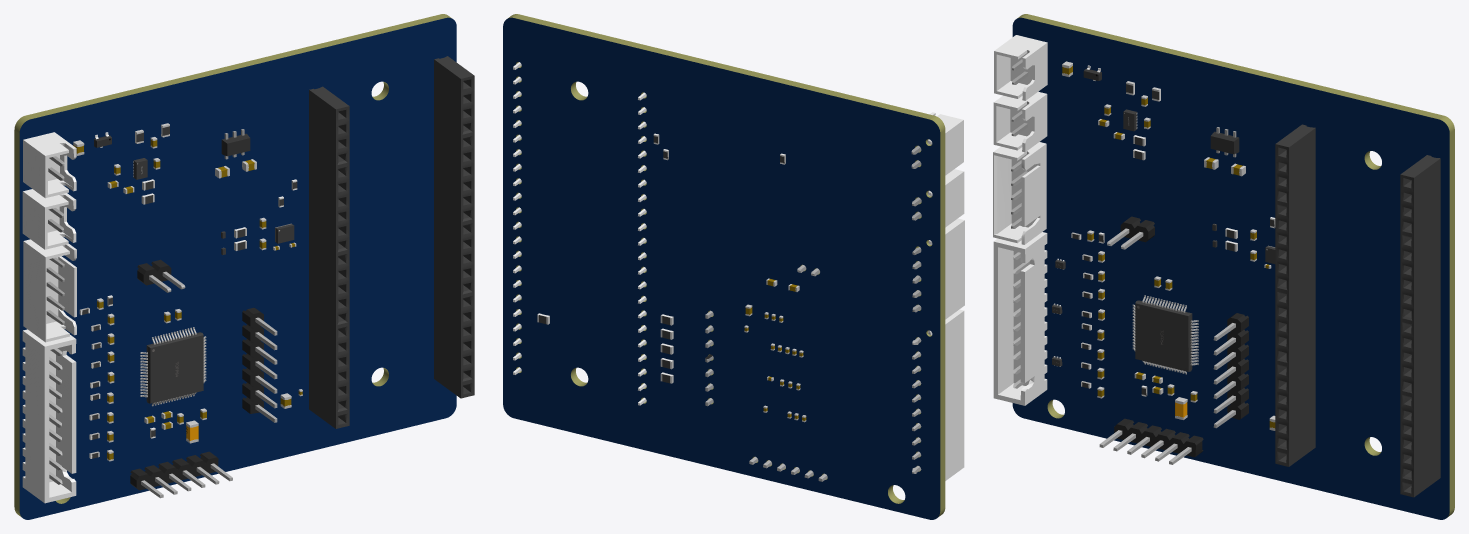
The model's file is neurdaq_3d.obj.
The picture shows the model from 3 angles, left to right: view 1: azimuth 30°, elevation 25°; view 2: azimuth 150°, elevation 25°; view 3: azimuth 330°, elevation 25°; orthographic projection.
Bounding box in the file's own units: 79.97 × 69.97 × 11.95.
